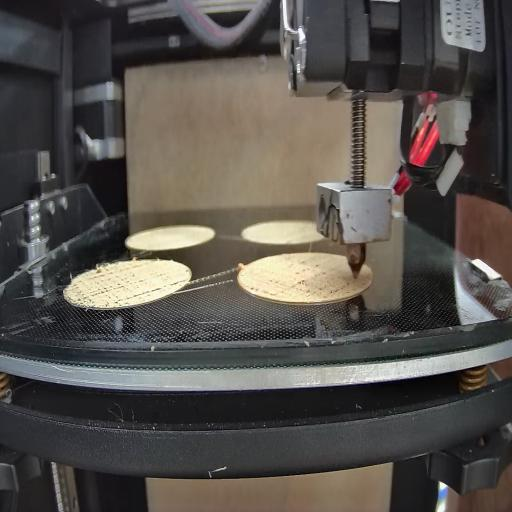under_extrusion: (78, 262, 163, 309), (248, 272, 349, 304), (170, 276, 192, 296)
